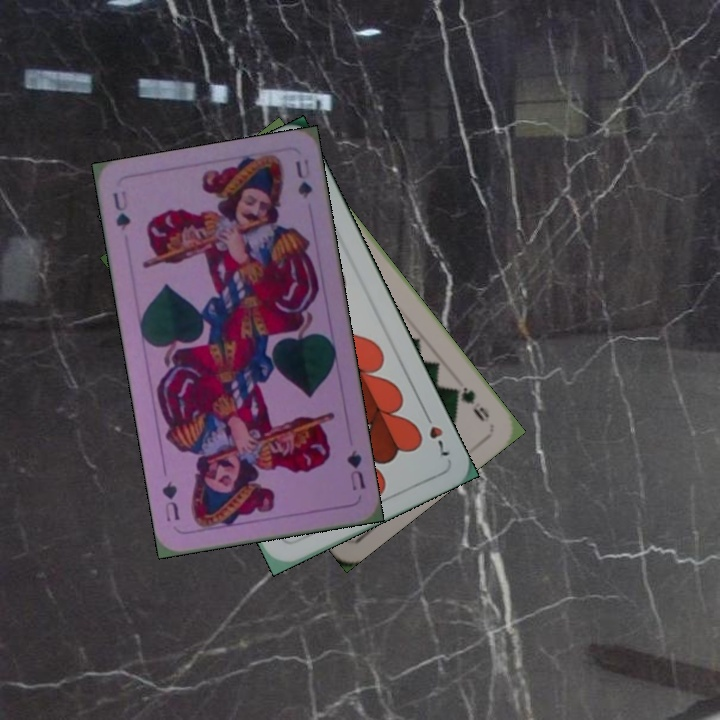G9: (447, 382, 492, 424)
GU: (342, 445, 368, 493), (109, 186, 133, 233)
H7: (419, 406, 453, 461)
